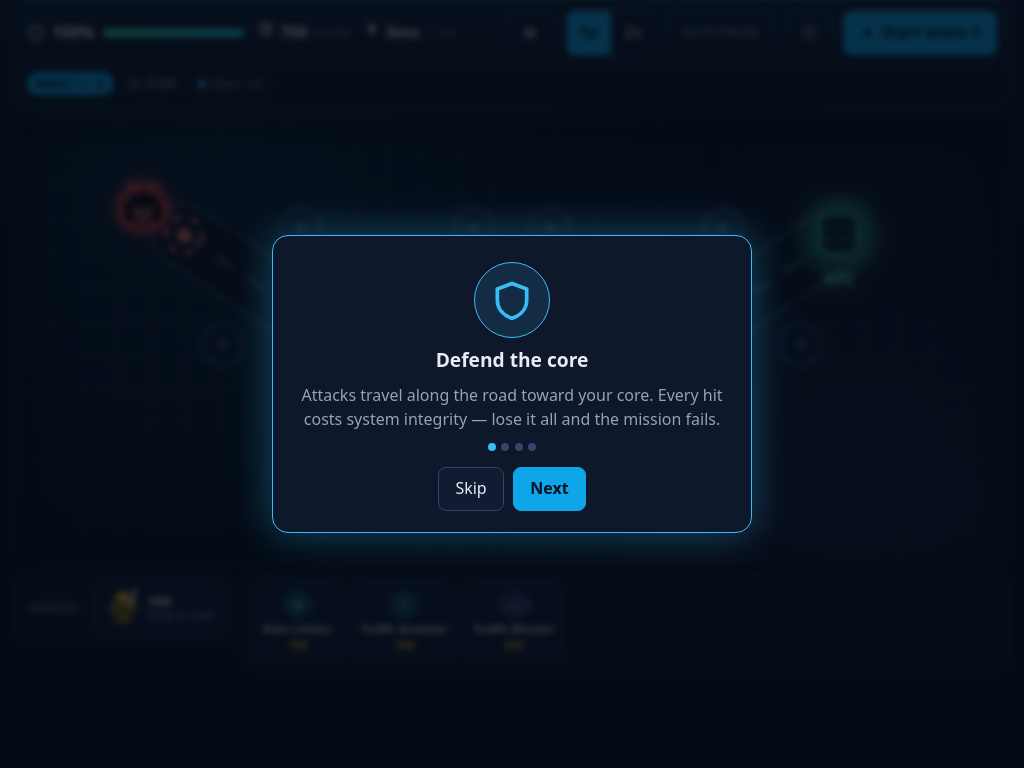
Scenario: CyberDefenseGame › shows the how-to-play popup on the first run and closes it
Expected: the heading "Defend the core" is shown, [436,348,588,372]
Click the button "Next".
click(549, 489)  # box [513,467,586,511]
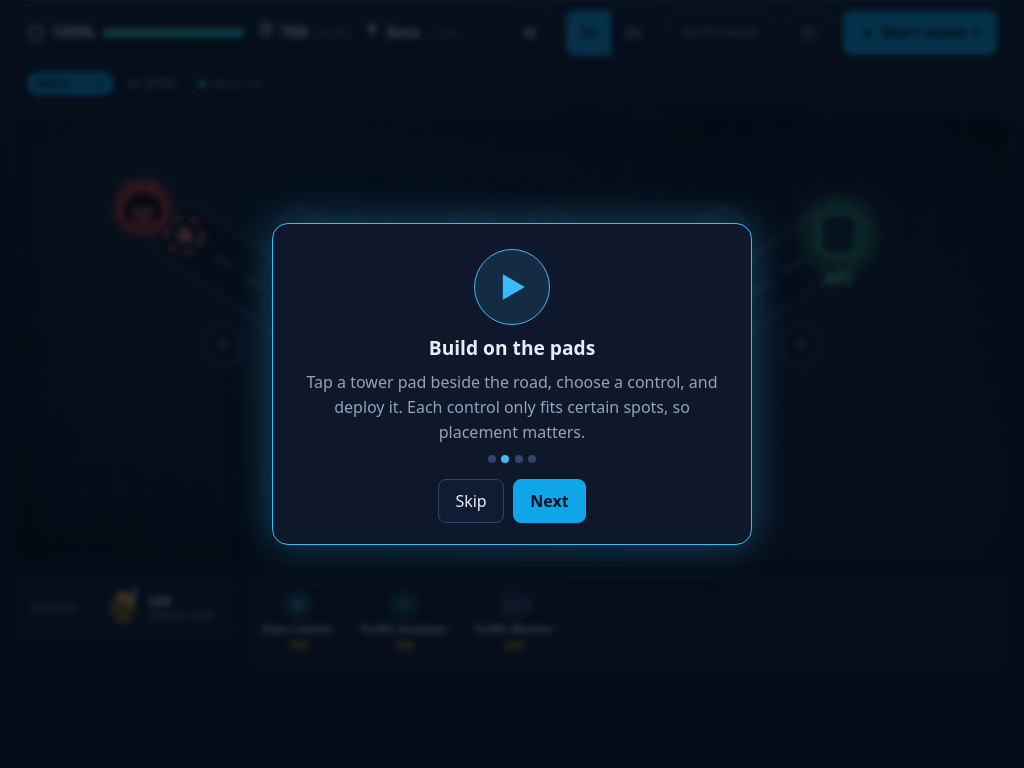
Click the button "Next".
click(549, 501)  # box [513,479,586,523]
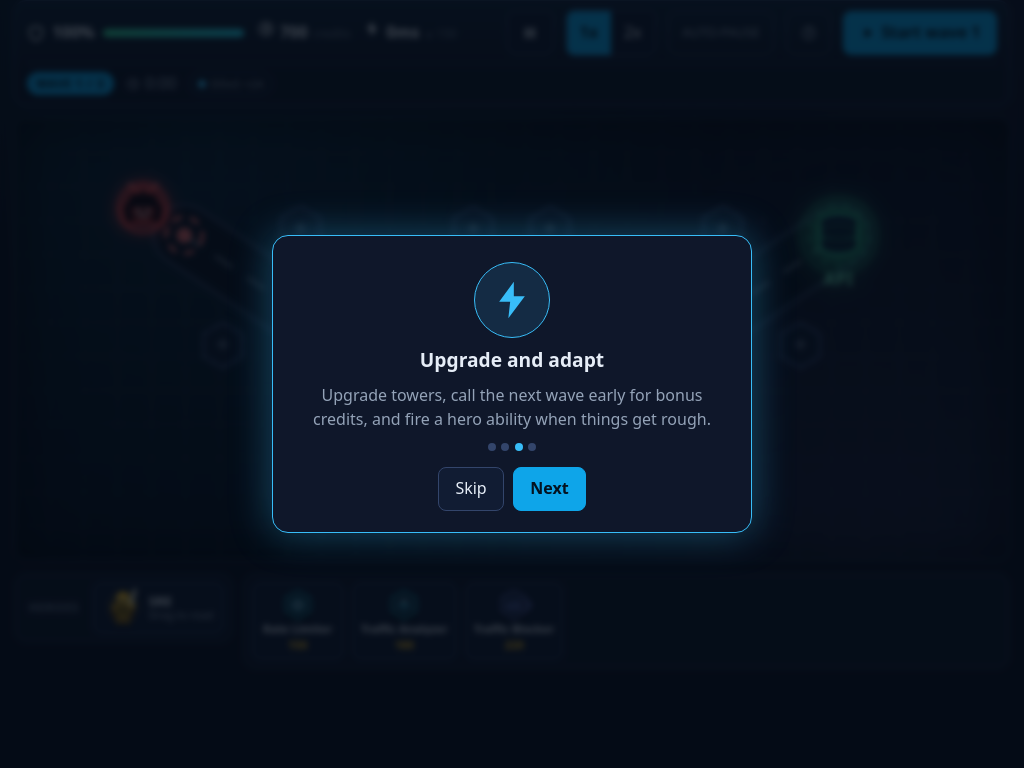
Click the button "Next".
click(549, 489)  # box [513,467,586,511]
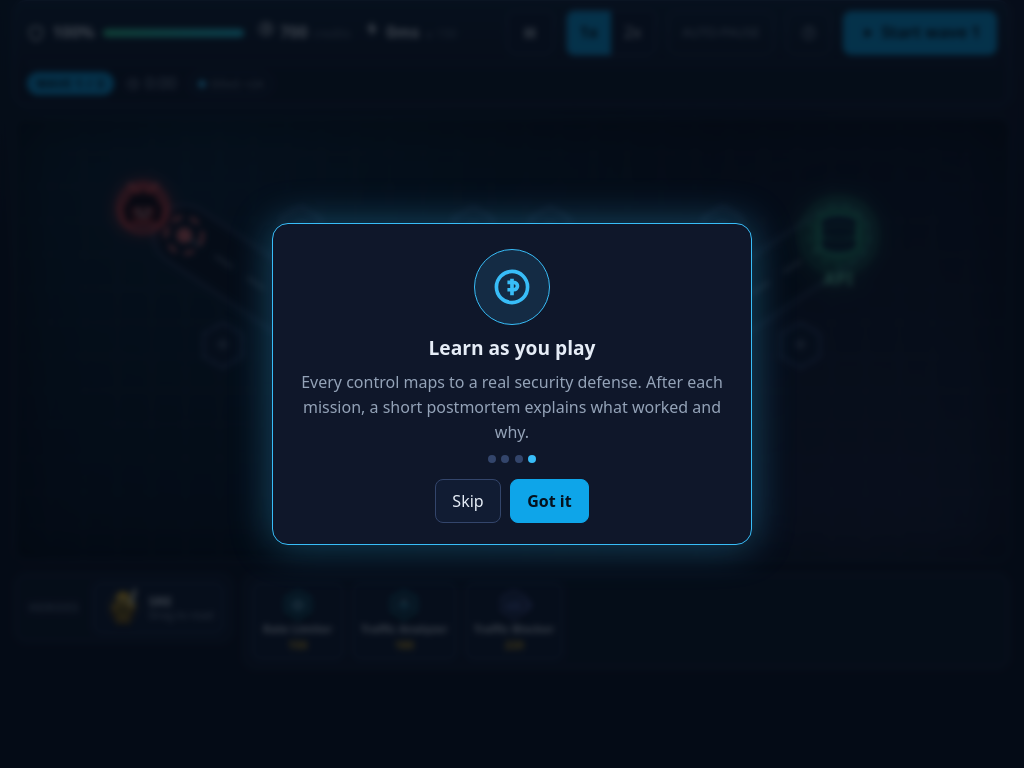
Click the button "Got it".
click(549, 501)  # box [510,479,589,523]
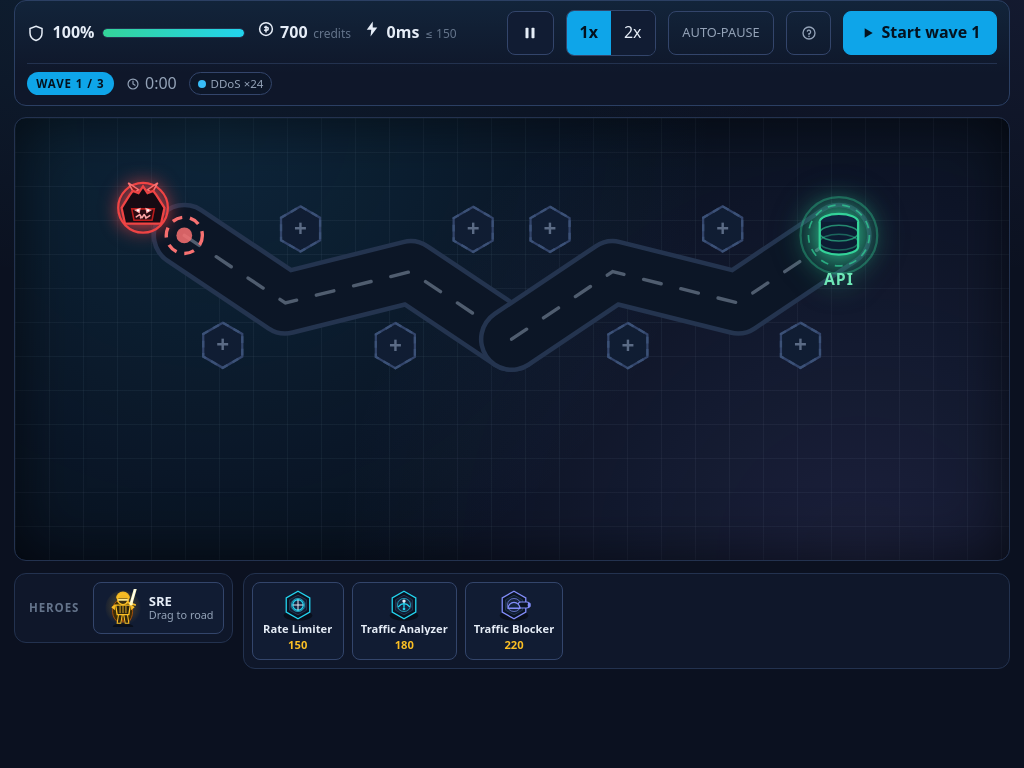
Now the dialog is gone
